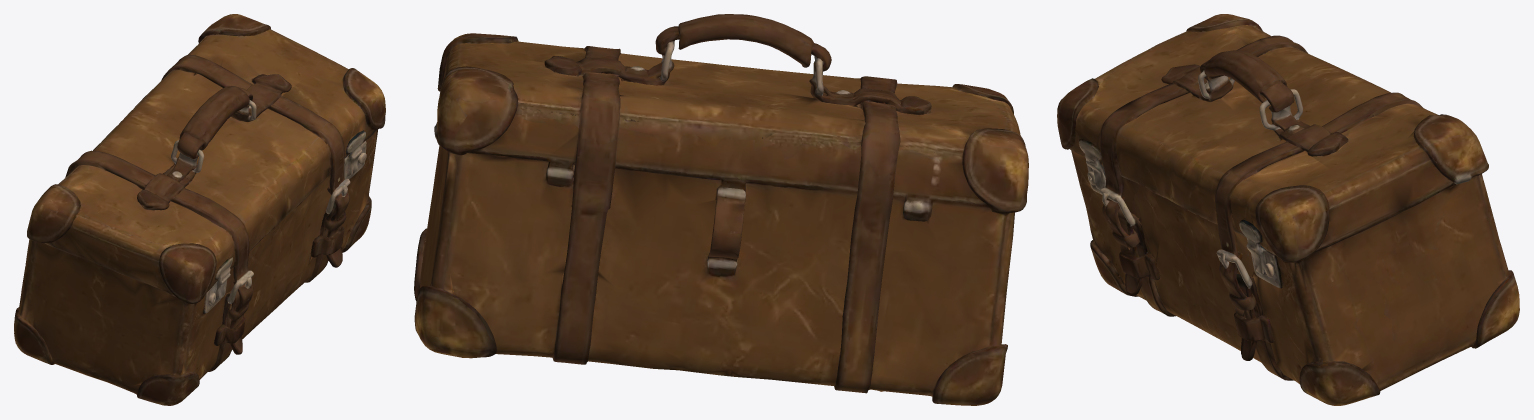
3 views of the same model, side by side, from view 1: azimuth 30°, elevation 25°; view 2: azimuth 150°, elevation 25°; view 3: azimuth 270°, elevation 25° (orthographic). The views are drawn at different scales.
Size of the model in its own units: 0.879 by 0.536 by 0.7798.
Materials: 1 (1 with a texture image).
